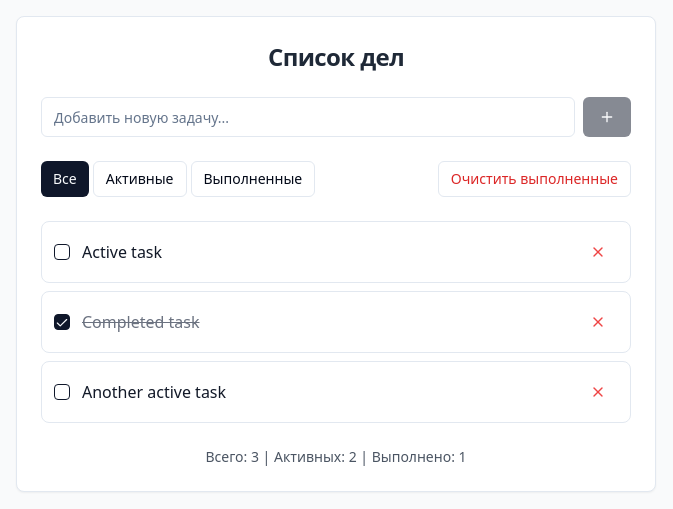
Scenario: TodoApp › filters todos to show only completed when completed filter is selected
The image size is (673, 509).
Click the button "Выполненные" at [253, 179], box x1=190 y1=161 x2=315 y2=197
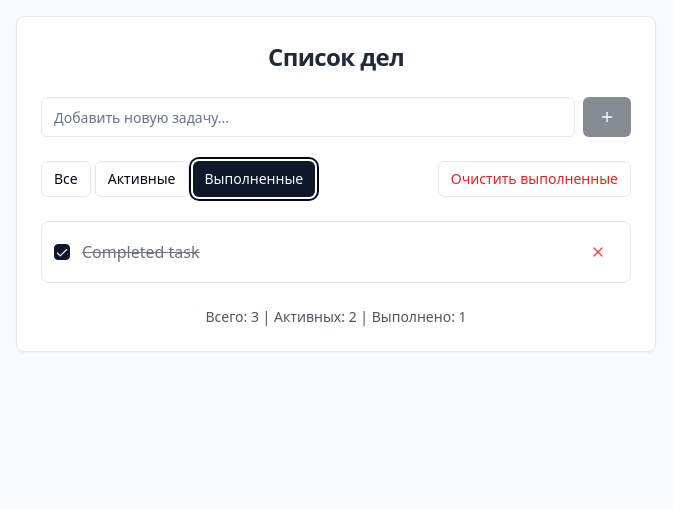
Expected: the text "Completed task" is shown, x1=82 y1=241 x2=200 y2=263
Result: the text "Active task" is gone
Result: the text "Another active task" is gone
